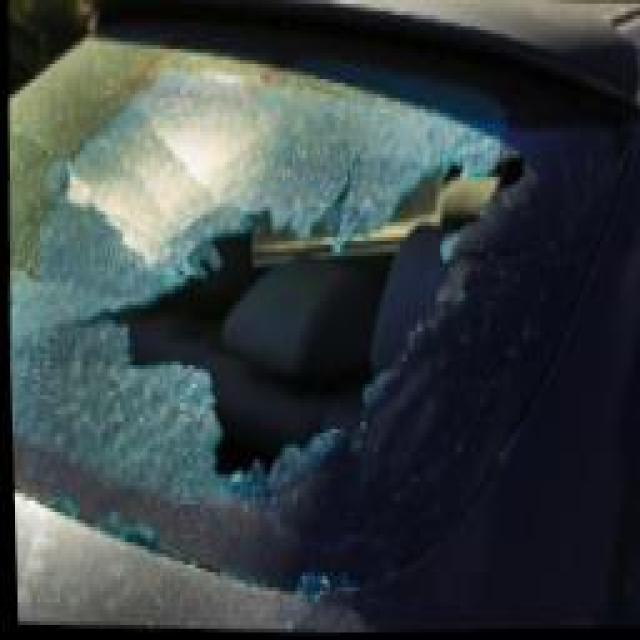Windshield: (0, 23, 624, 549)
